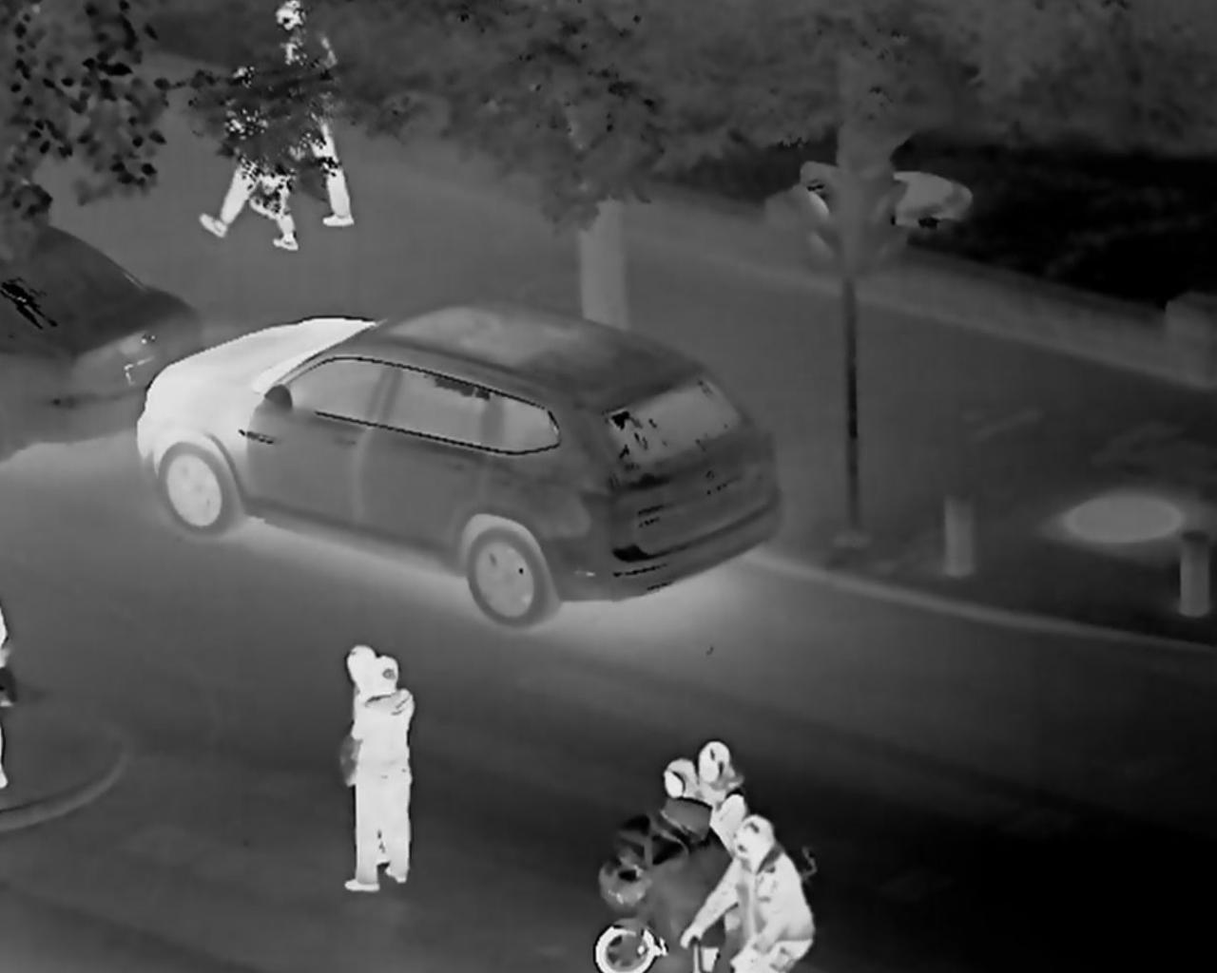person: (701, 752, 803, 973), (351, 635, 432, 880), (284, 23, 365, 255), (213, 75, 273, 229), (665, 754, 692, 818)
